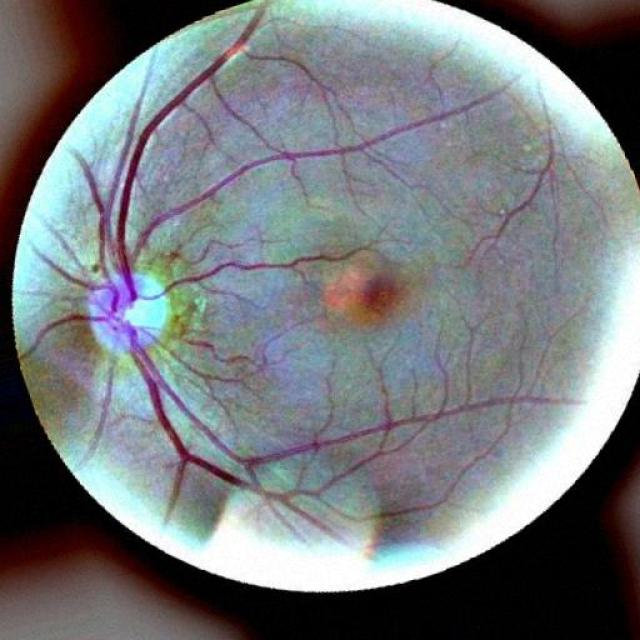Macula: (330, 261, 411, 331)
Nerves: (107, 321, 543, 522), (104, 26, 249, 300), (135, 242, 370, 303)
Optic Disk: (70, 268, 173, 374)
